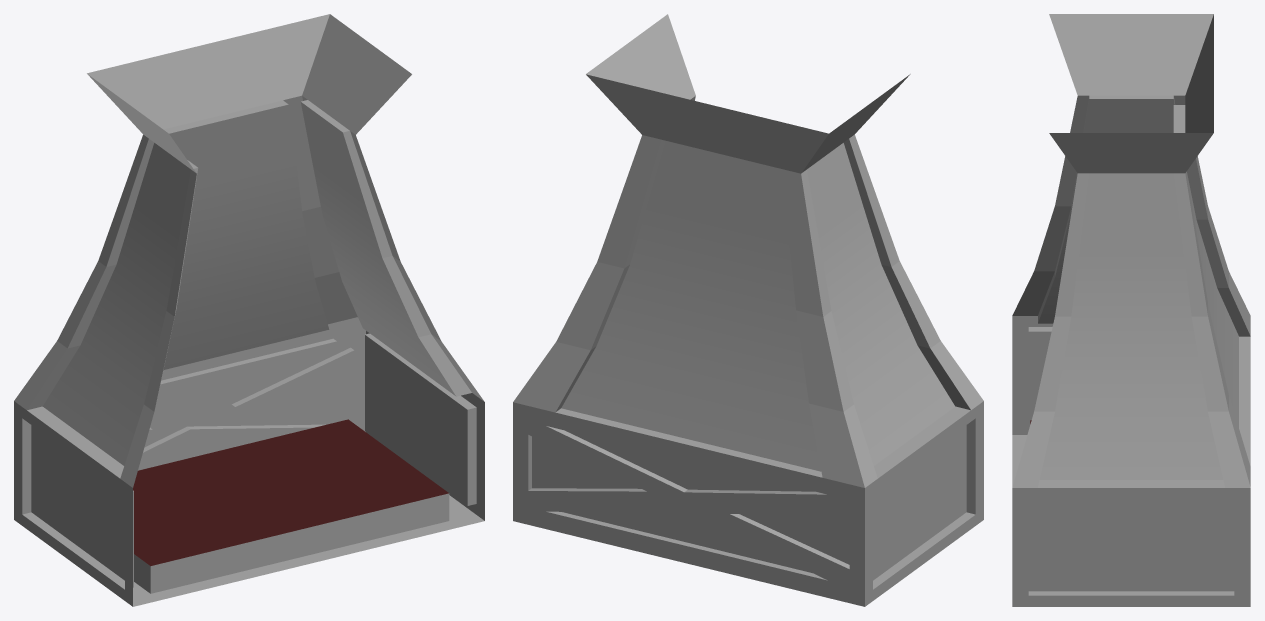
The model's file is KitchenVent.fbx.
3 views of the same model, side by side, from view 1: azimuth 30°, elevation 25°; view 2: azimuth 150°, elevation 25°; view 3: azimuth 270°, elevation 25° (orthographic).
Parts seen in each view (by area): view 1: pCube71; view 2: pCube71; view 3: pCube71.
Part boxes in pixels (left/top/right/bottom): pCube71: left=14, top=14, right=484, bottom=606; pCube71: left=513, top=14, right=983, bottom=606; pCube71: left=1012, top=14, right=1250, bottom=606.
Size of the model in its own units: 1.71 by 2.07 by 1.
